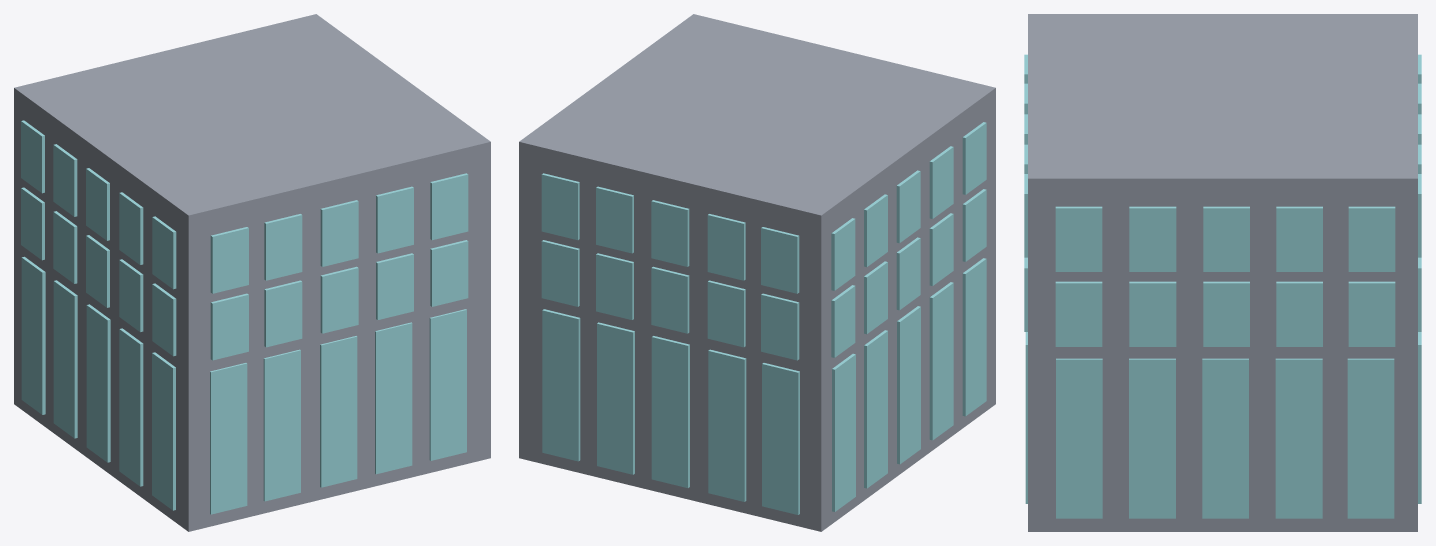
Rendered from skyscrapermid.glb.
3 renders of one model, left to right at view 1: azimuth 30°, elevation 25°; view 2: azimuth 150°, elevation 25°; view 3: azimuth 270°, elevation 25°, orthographic. The views are drawn at different scales.
Parts seen in each view (by area): view 1: Cube, Cube.050, Cube.053, Cube.054, Cube.051, Cube.052, Cube.056, Cube.058, Cube.055, Cube.057, Cube.059, Cube.040 (+19 smaller); view 2: Cube, Cube.028, Cube.014, Cube.027, Cube.026, Cube.029, Cube.058, Cube.059, Cube.056, Cube.057, Cube.055, Cube.015 (+19 smaller); view 3: Cube, Cube.012, Cube.005, Cube.013, Cube.016, Cube.060, Cube.001, Cube.008, Cube.004, Cube.006, Cube.007, Cube.011 (+6 smaller).
Boxes of the visible parts, x1,y1,x2,y2 form: Cube: [14, 14, 490, 531]; Cube.050: [429, 309, 466, 460]; Cube.053: [263, 349, 300, 501]; Cube.054: [210, 363, 247, 514]; Cube.051: [375, 322, 412, 474]; Cube.052: [320, 336, 357, 487]; Cube.056: [53, 280, 77, 438]; Cube.058: [119, 328, 143, 486]; Cube.055: [21, 256, 45, 414]; Cube.057: [86, 304, 110, 462]; Cube.059: [152, 352, 175, 510]; Cube.040: [430, 240, 468, 306]; Cube: [519, 14, 995, 531]; Cube.028: [708, 349, 746, 501]; Cube.014: [542, 309, 580, 461]; Cube.027: [651, 336, 689, 487]; Cube.026: [597, 322, 634, 474]; Cube.029: [762, 363, 799, 514]; Cube.058: [929, 282, 953, 440]; Cube.059: [962, 258, 986, 416]; Cube.056: [864, 330, 887, 488]; Cube.057: [897, 306, 920, 464]; Cube.055: [832, 353, 855, 511]; Cube.015: [541, 240, 579, 306]; Cube: [1028, 14, 1417, 531]; Cube.012: [1275, 358, 1322, 518]; Cube.005: [1347, 358, 1394, 518]; Cube.013: [1202, 358, 1248, 518]; Cube.016: [1129, 358, 1175, 518]; Cube.060: [1056, 358, 1102, 518]; Cube.001: [1129, 206, 1176, 271]; Cube.008: [1129, 281, 1176, 346]; Cube.004: [1055, 206, 1102, 271]; Cube.006: [1348, 206, 1395, 271]; Cube.007: [1055, 281, 1102, 346]; Cube.011: [1348, 281, 1395, 346].
Size of the model in its own units: 1.72 by 1.69 by 1.72.
